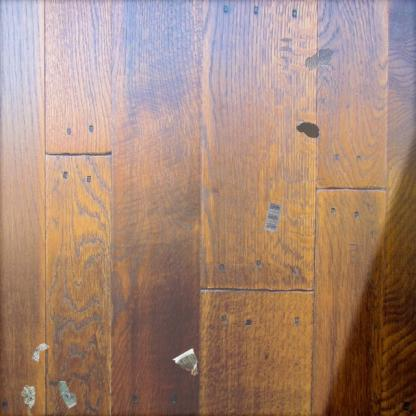dirty: (172, 346, 200, 378), (57, 379, 78, 410), (263, 202, 282, 232), (19, 384, 37, 410), (30, 342, 50, 364)
liquid: (304, 47, 335, 71), (295, 119, 321, 140)
